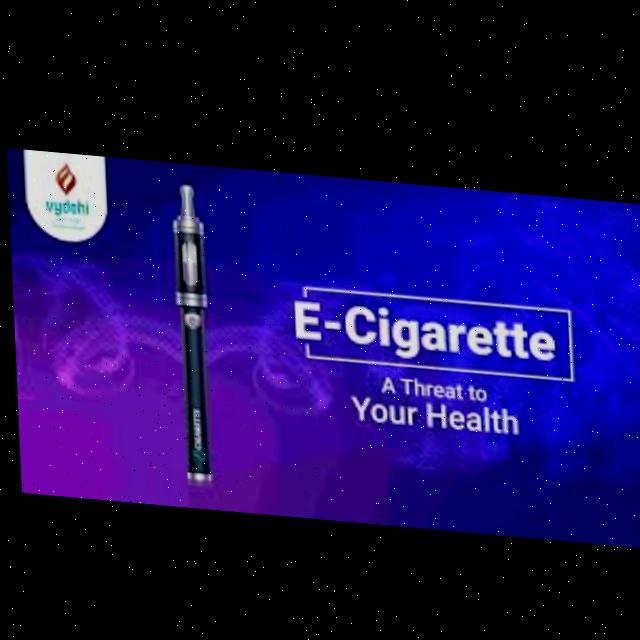vape: (170, 178, 210, 479)
